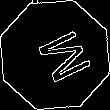M_SW: (22, 23, 88, 87)
